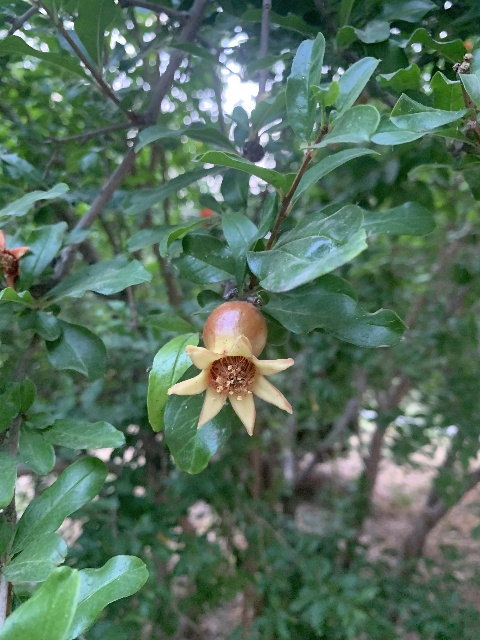early-fruit: (166, 300, 294, 435)
